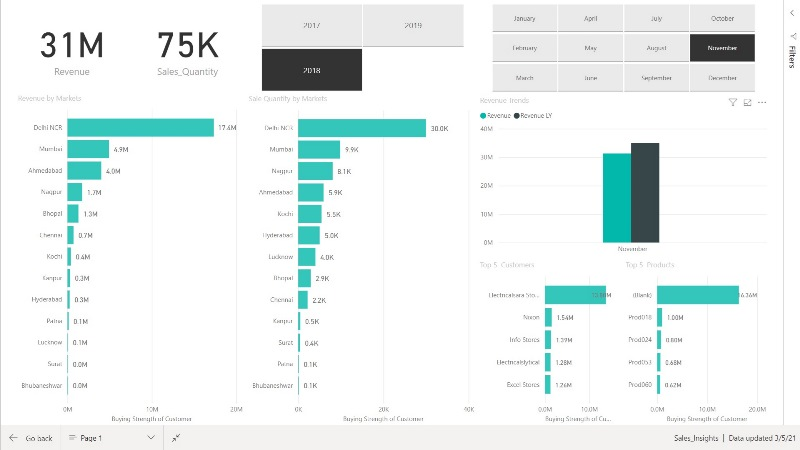

The dashboard page shown, as its layout file describes it:
{"tool":"powerbi","page":{"name":"Page 1","canvas":[1280,720],"ordinal":0},"visuals":[{"type":"card","fields":{"Values":["BaseMeasures.Revenue"]},"box":[0,0,196.2,157.2],"z":0},{"type":"card","fields":{"Values":["BaseMeasures.Sales_Quantity"]},"box":[196.2,0,196.2,157.2],"z":1000},{"type":"barChart","title":"Revenue by Markets","fields":{"Y":["BaseMeasures.Revenue"],"Category":["sales markets.markets_name"]},"box":[1.4,157.2,391,563.5],"z":2000},{"type":"barChart","title":"Sale Quantity by Markets","fields":{"Category":["sales markets.markets_name"],"Y":["BaseMeasures.Sales_Quantity"]},"box":[392.6,157.5,391.4,562.5],"z":3000},{"type":"slicer","fields":{"Values":["sales date.year"]},"box":[393.2,0,391.8,160.9],"z":4000},{"type":"slicer","fields":{"Values":["sales date.cy_date.Variation.Date Hierarchy.Month"]},"box":[784,0,494.8,161.2],"z":5000},{"type":"barChart","title":"Top 5  Customers","fields":{"Category":["sales customers.custmer_name"],"Y":["BaseMeasures.Revenue"]},"box":[784,439.3,247.3,280.7],"z":6000},{"type":"barChart","title":"Top 5  Products","fields":{"Y":["BaseMeasures.Revenue"],"Category":["sales products.product_code"]},"box":[1031.3,439.3,247.3,280.7],"z":7000},{"type":"lineClusteredColumnComboChart","title":"Revenue Trends","fields":{"Y":["BaseMeasures.Revenue","BaseMeasures.Revenue LY"],"Category":["sales date.date.Variation.Date Hierarchy.Month"]},"box":[784,161,495,278],"z":8000}]}

Visuals, with their boxes on the page's 1280x720 design canvas (x1, y1, x2, y2). These are canvas units, not pixel positions in the 800x450 screenshot, which may show the page scaled, cropped or inside an application window:
card - BaseMeasures.Revenue: bbox=[0, 0, 196, 157]
card - BaseMeasures.Sales_Quantity: bbox=[196, 0, 392, 157]
"Revenue by Markets" barChart: bbox=[1, 157, 392, 721]
"Sale Quantity by Markets" barChart: bbox=[393, 158, 784, 720]
slicer - sales date.year: bbox=[393, 0, 785, 161]
slicer - sales date.cy_date.Variation.Date Hierarchy.Month: bbox=[784, 0, 1279, 161]
"Top 5  Customers" barChart: bbox=[784, 439, 1031, 720]
"Top 5  Products" barChart: bbox=[1031, 439, 1279, 720]
"Revenue Trends" lineClusteredColumnComboChart: bbox=[784, 161, 1279, 439]
